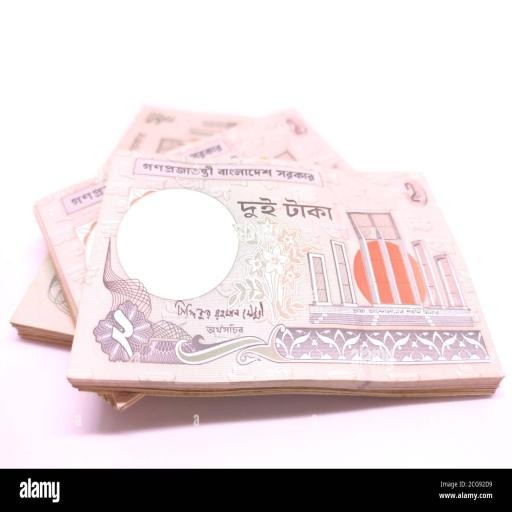2taka: (69, 150, 504, 384)
